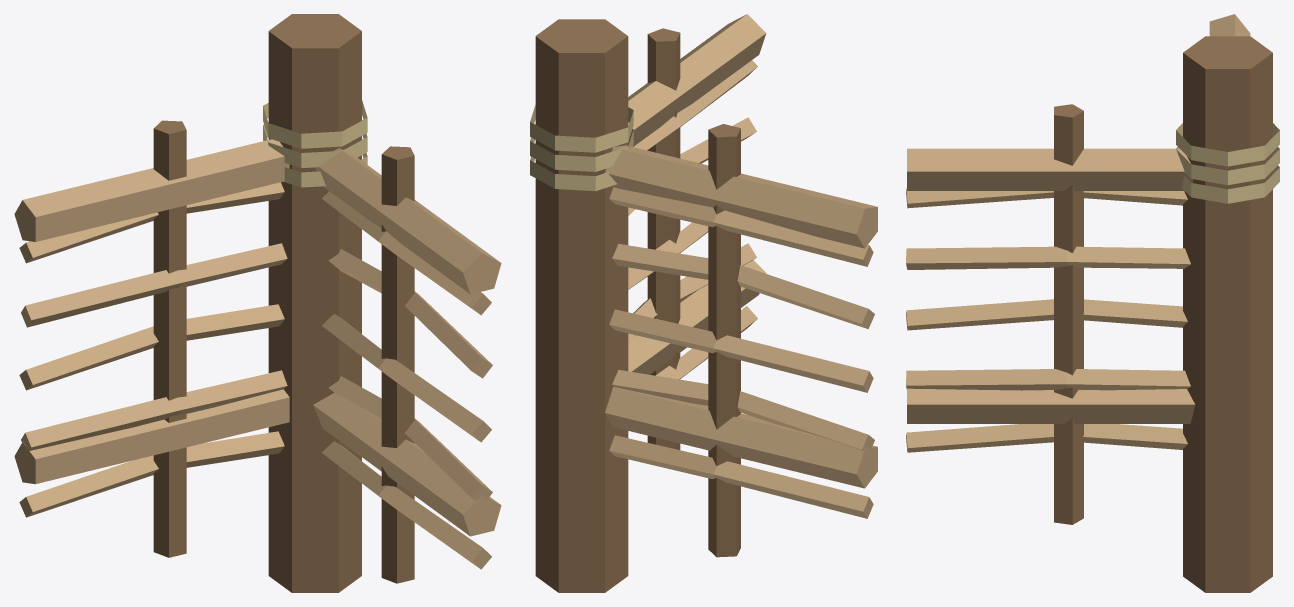
File: pen_fence_0c.glb
3 renders of one model, left to right at view 1: azimuth 30°, elevation 25°; view 2: azimuth 150°, elevation 25°; view 3: azimuth 270°, elevation 25°, orthographic. The views are drawn at different scales.
Parts seen in each view (by area): view 1: pen_fence_0c; view 2: pen_fence_0c; view 3: pen_fence_0c.
Boxes of the visible parts, x1,y1,x2,y2 form: pen_fence_0c: (14, 14, 501, 592); pen_fence_0c: (530, 14, 877, 592); pen_fence_0c: (906, 14, 1279, 592).
Bounding box in the file's own units: 0.5823 × 0.9 × 0.5823.
